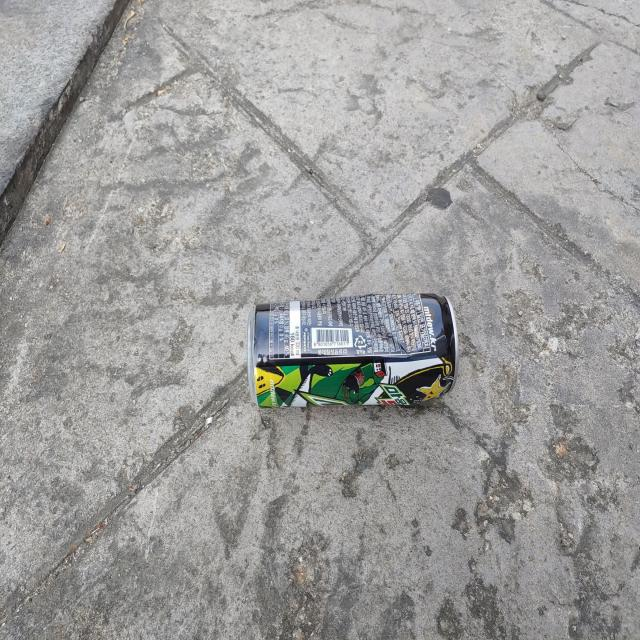can: (247, 293, 458, 408)
